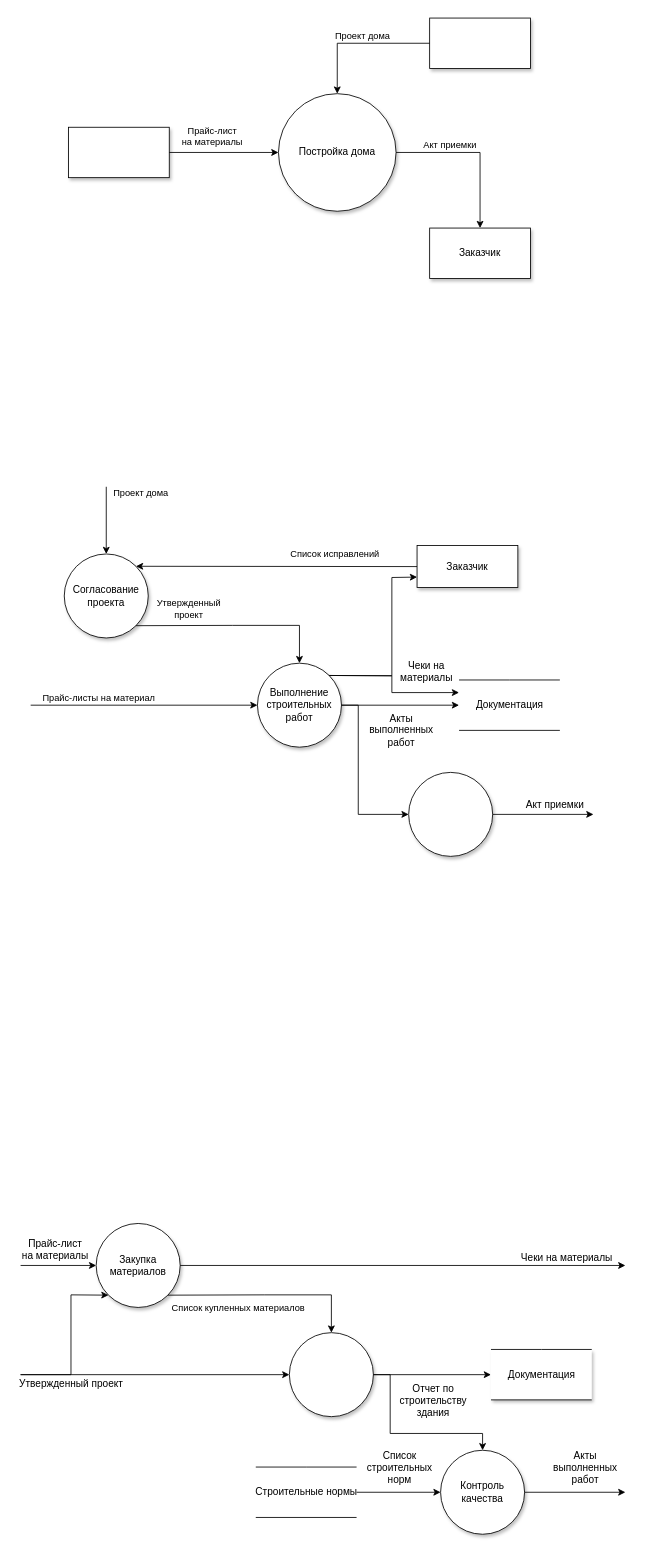
This 647x1555 diagram has some shape labels left out. Each missing label, with the centre of its shape:
Архитектор: (x=480, y=44)
Магазин: (x=119, y=153)
Сдача работ: (x=451, y=815)
Строительство здания: (x=331, y=1375)
